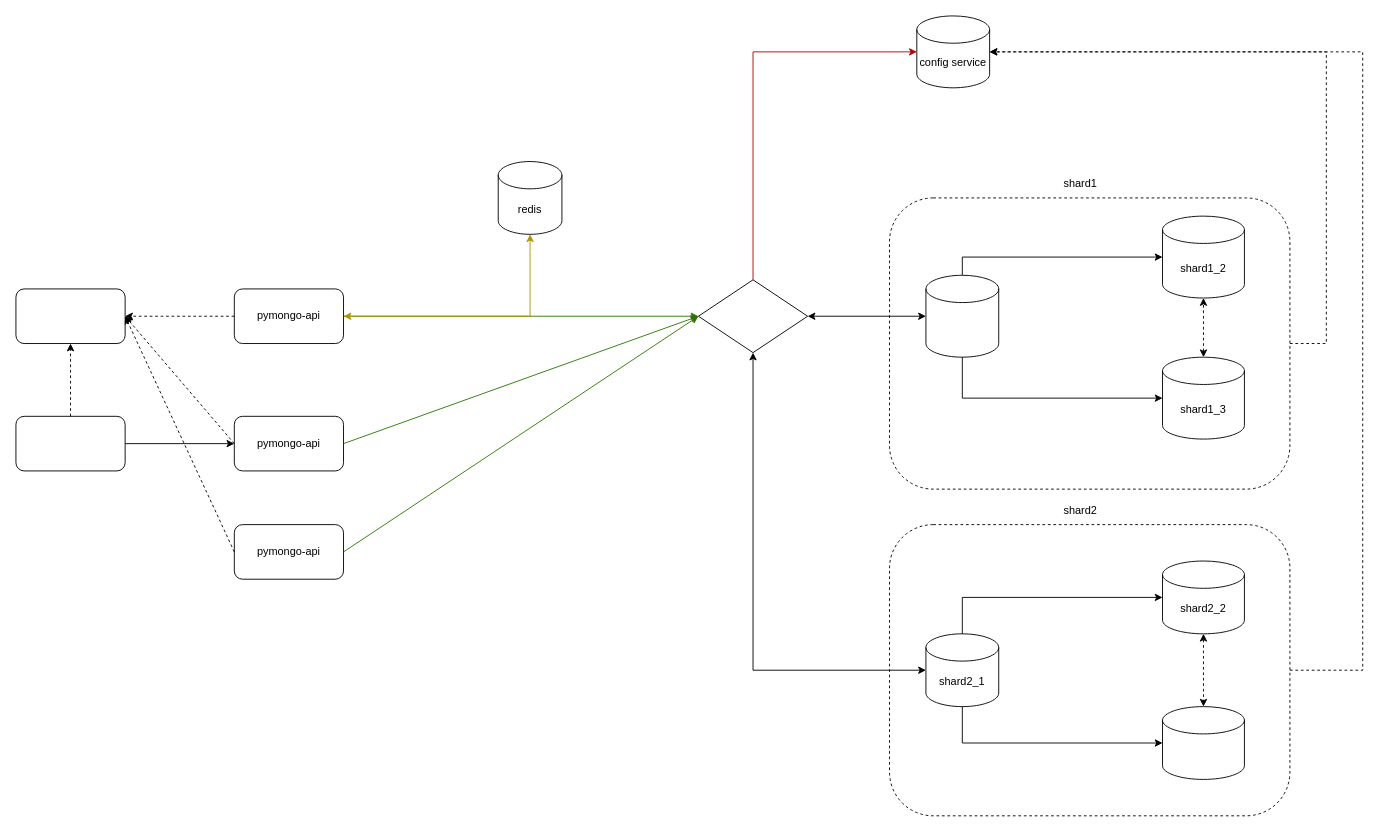
This 1386x832 diagram has some shape labels left out. Here are the shapes that lost their labels. From the top down, the box of each, then its label:
(15, 288, 125, 344): consul
(698, 279, 808, 353): router
(925, 274, 999, 357): shard1_1
(15, 415, 125, 471): apisix gw
(1162, 706, 1244, 779): shard2_3
